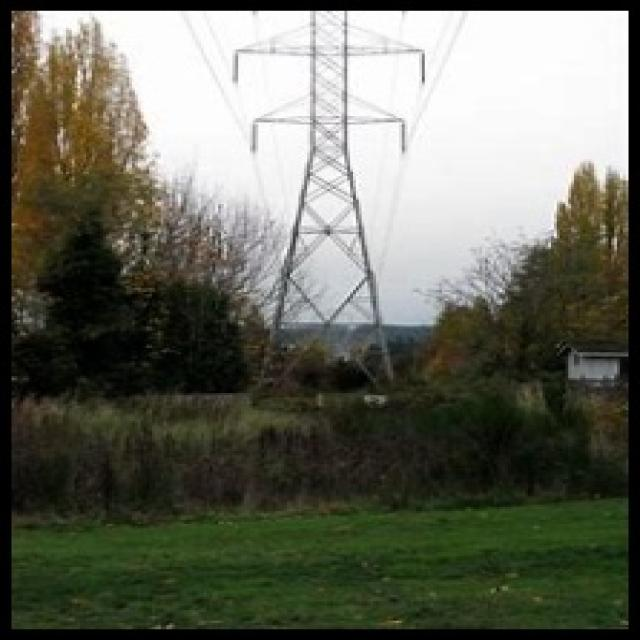utility poles: (95, 150, 323, 412), (342, 235, 528, 422)
